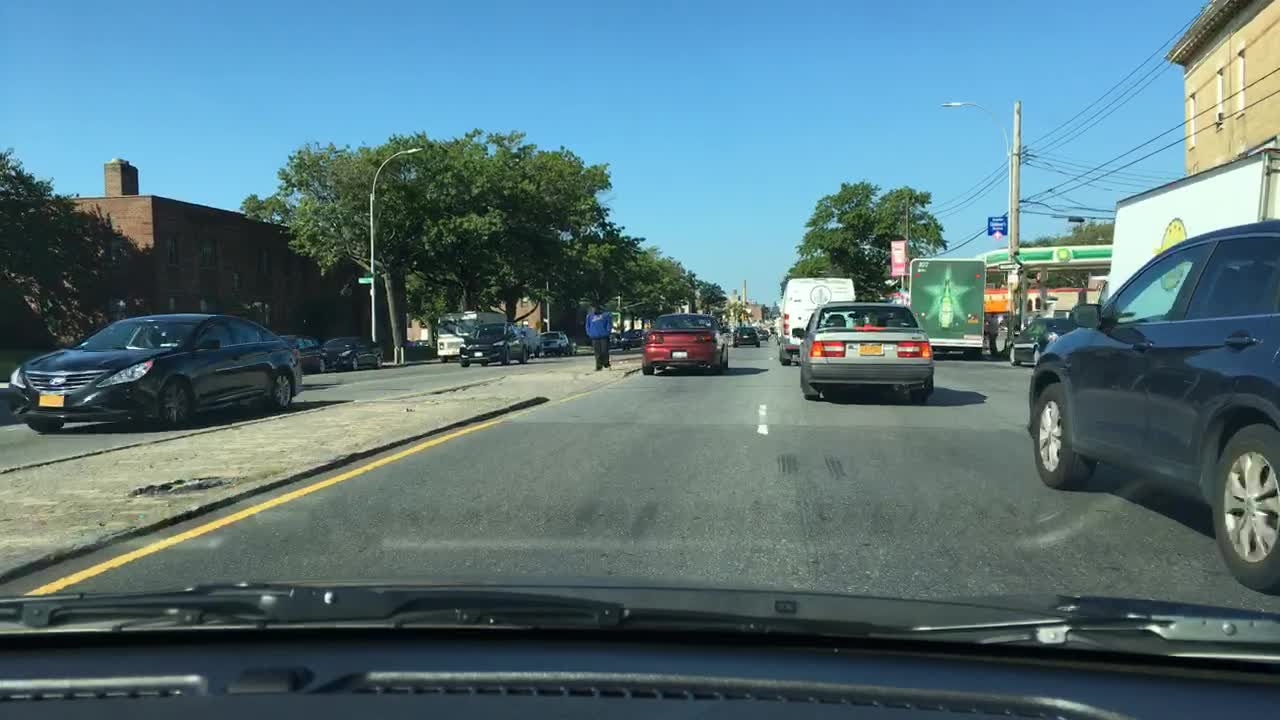bus: (975, 243, 1109, 344), (774, 273, 854, 365), (436, 311, 507, 363)
car: (1022, 213, 1279, 594), (8, 312, 307, 433), (797, 298, 936, 404), (639, 312, 730, 378), (1005, 313, 1079, 367), (456, 323, 526, 369), (319, 335, 385, 370), (280, 334, 325, 374), (537, 330, 569, 359), (730, 324, 762, 349), (618, 326, 647, 350), (518, 326, 541, 355), (771, 312, 780, 341), (607, 330, 621, 345), (568, 335, 578, 354), (756, 329, 769, 341)
person: (583, 296, 612, 370), (985, 310, 1004, 358)
traffic sign: (987, 215, 1005, 240), (994, 261, 1020, 270), (356, 276, 372, 284)
truck: (1096, 146, 1277, 306)
